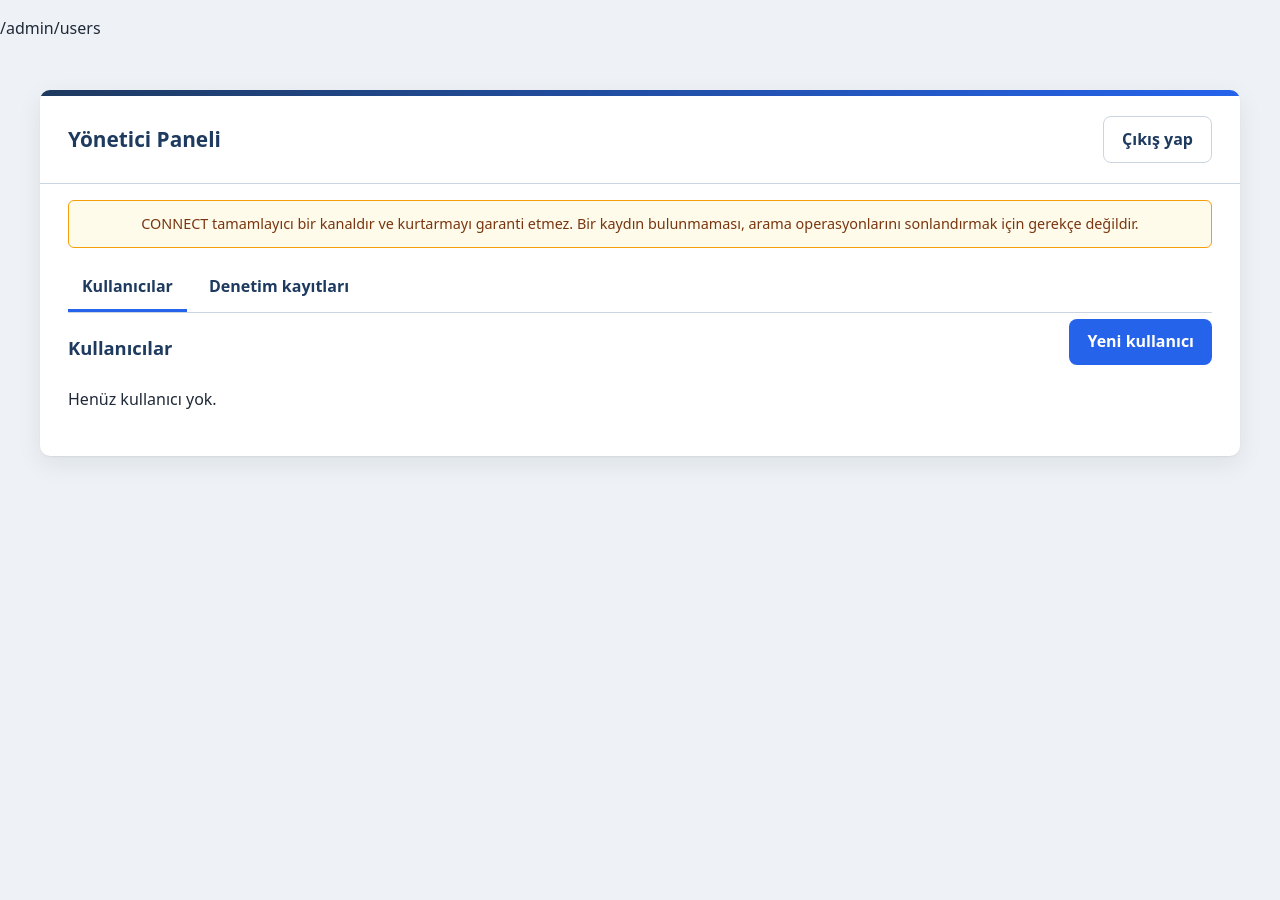
Test case: CreateUserDialog › rejects a 9-character password
This screenshot has width=1280, height=900.
Check: the text "Henüz kullanıcı yok." is shown, box 68,388 -> 217,410
Click the button "Yeni kullanıcı". click: point(1141, 342)
box: 1070,319 -> 1212,365
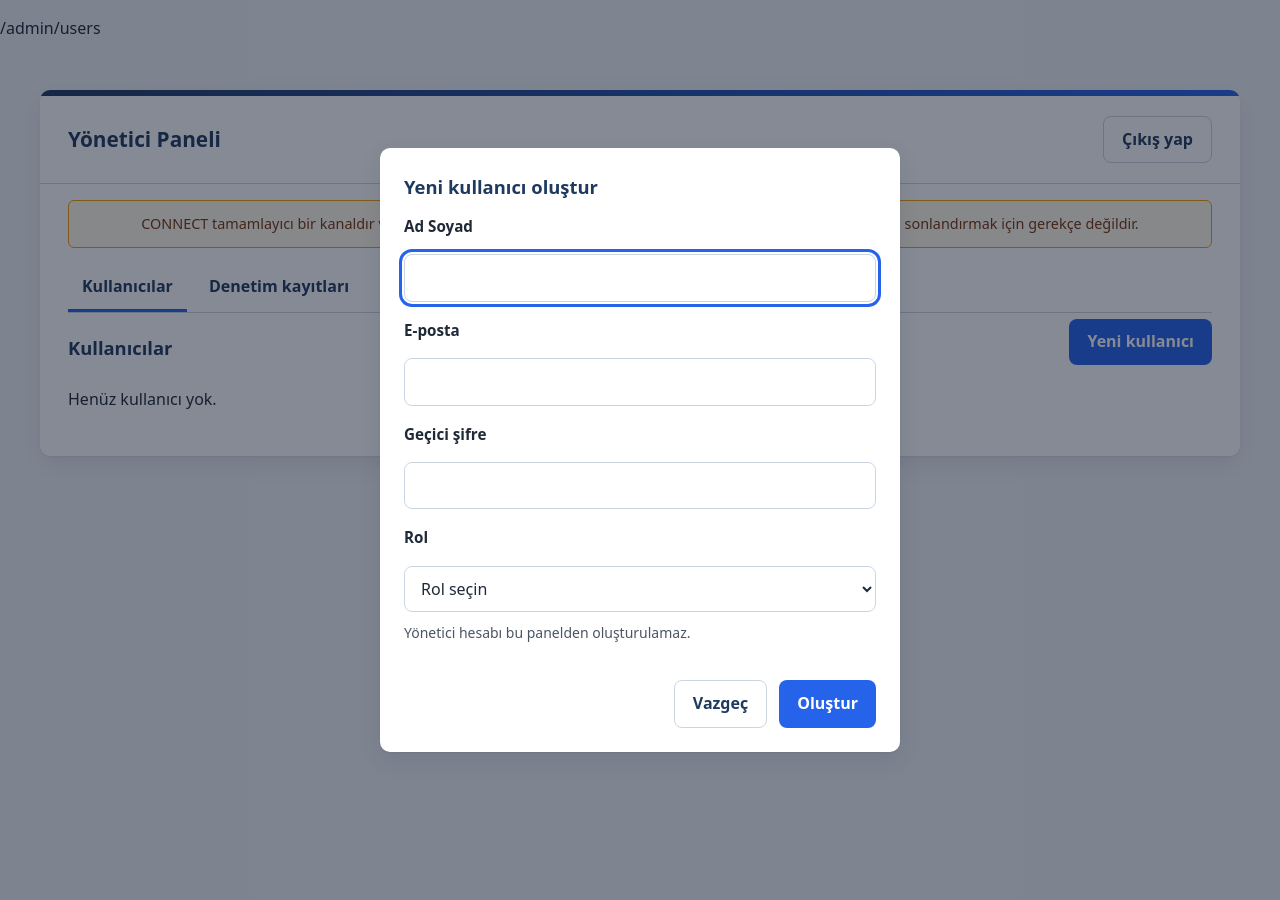
Type "  Mehmet Kaya " into the field labelled "Ad Soyad". click: point(640, 278)
box: 404,254 -> 876,302
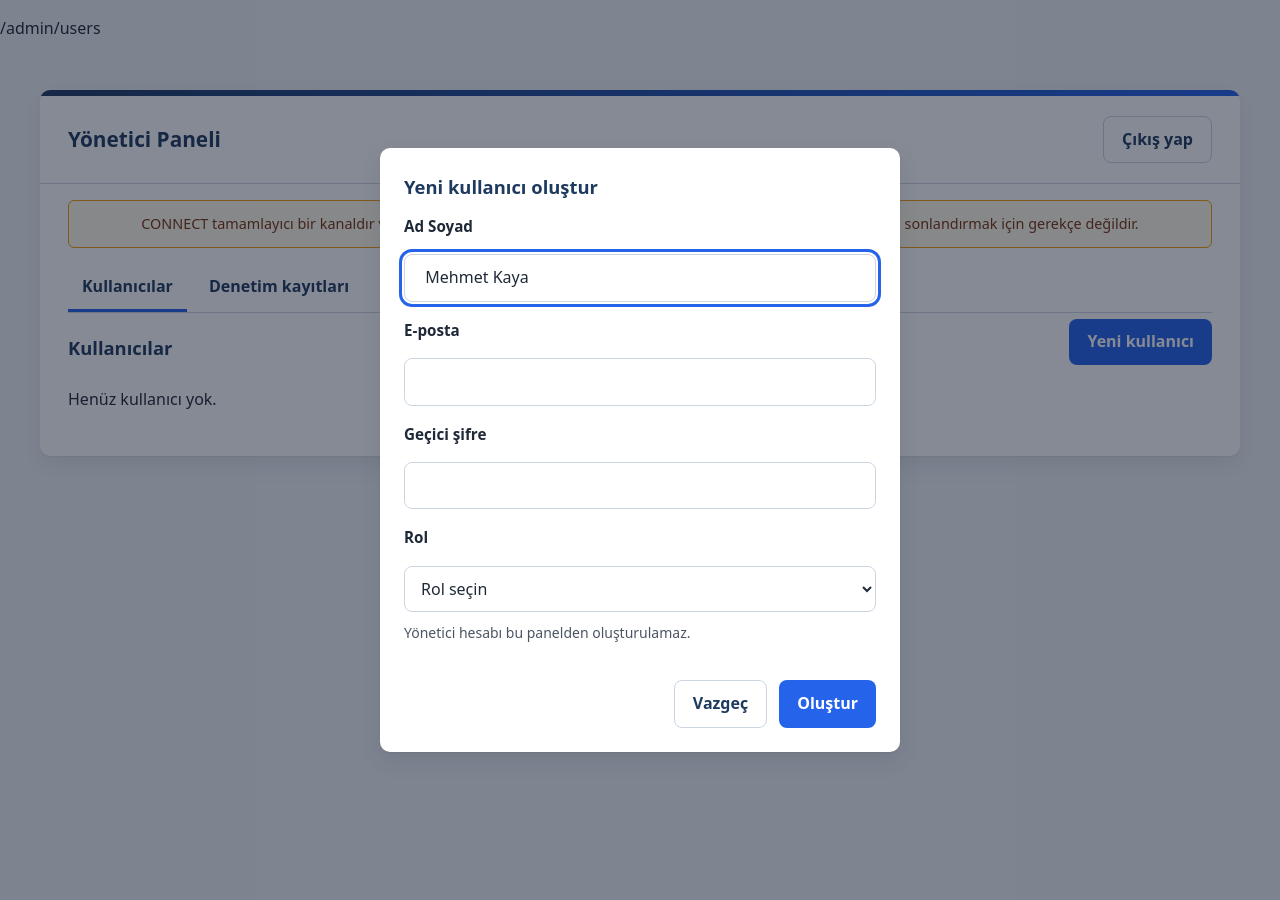
Type " mehmet@example.com " into the field labelled "E-posta". click: point(640, 382)
box: 404,358 -> 876,406
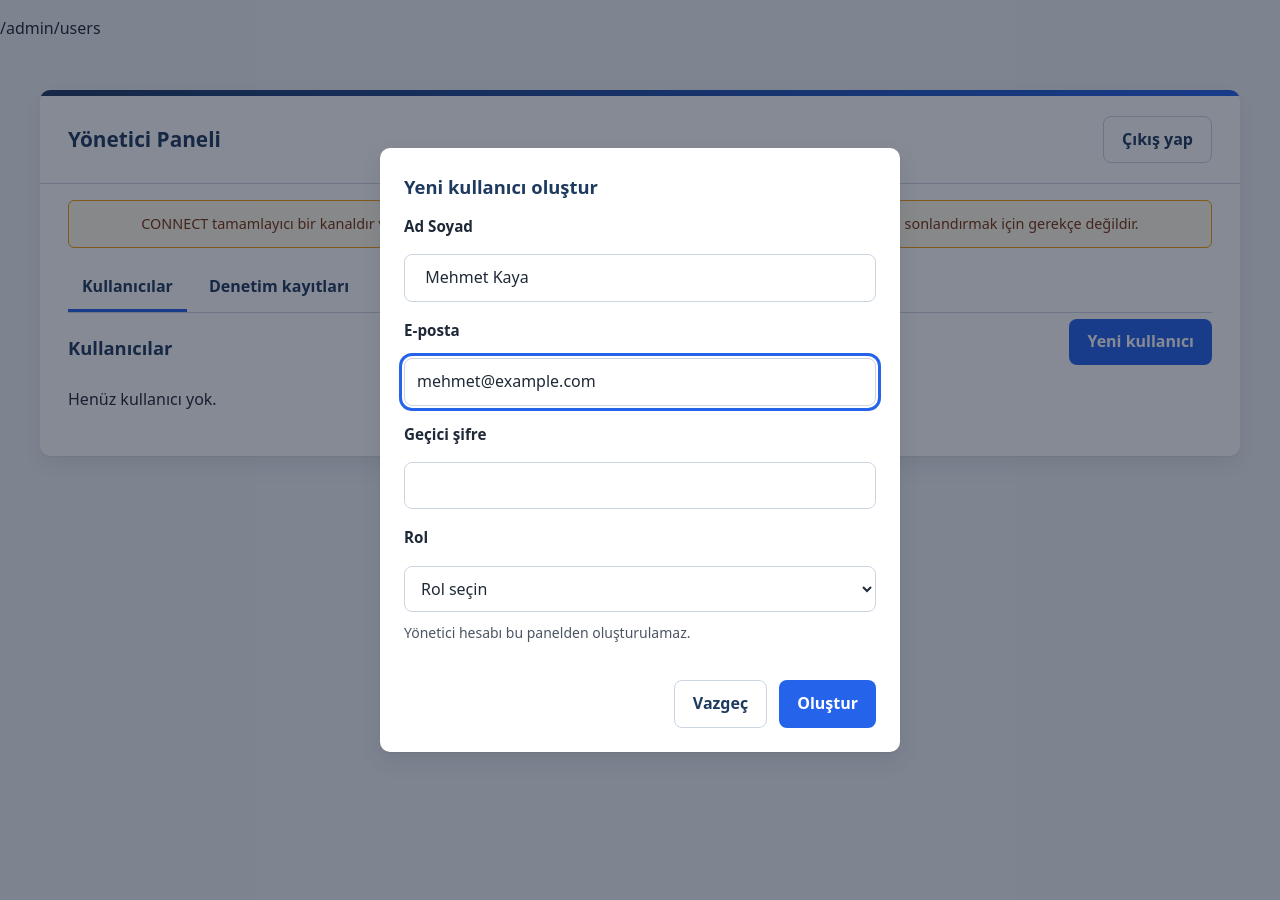
Type "123456789" into the password field labelled "Geçici şifre". click: point(640, 486)
box: 404,462 -> 876,509
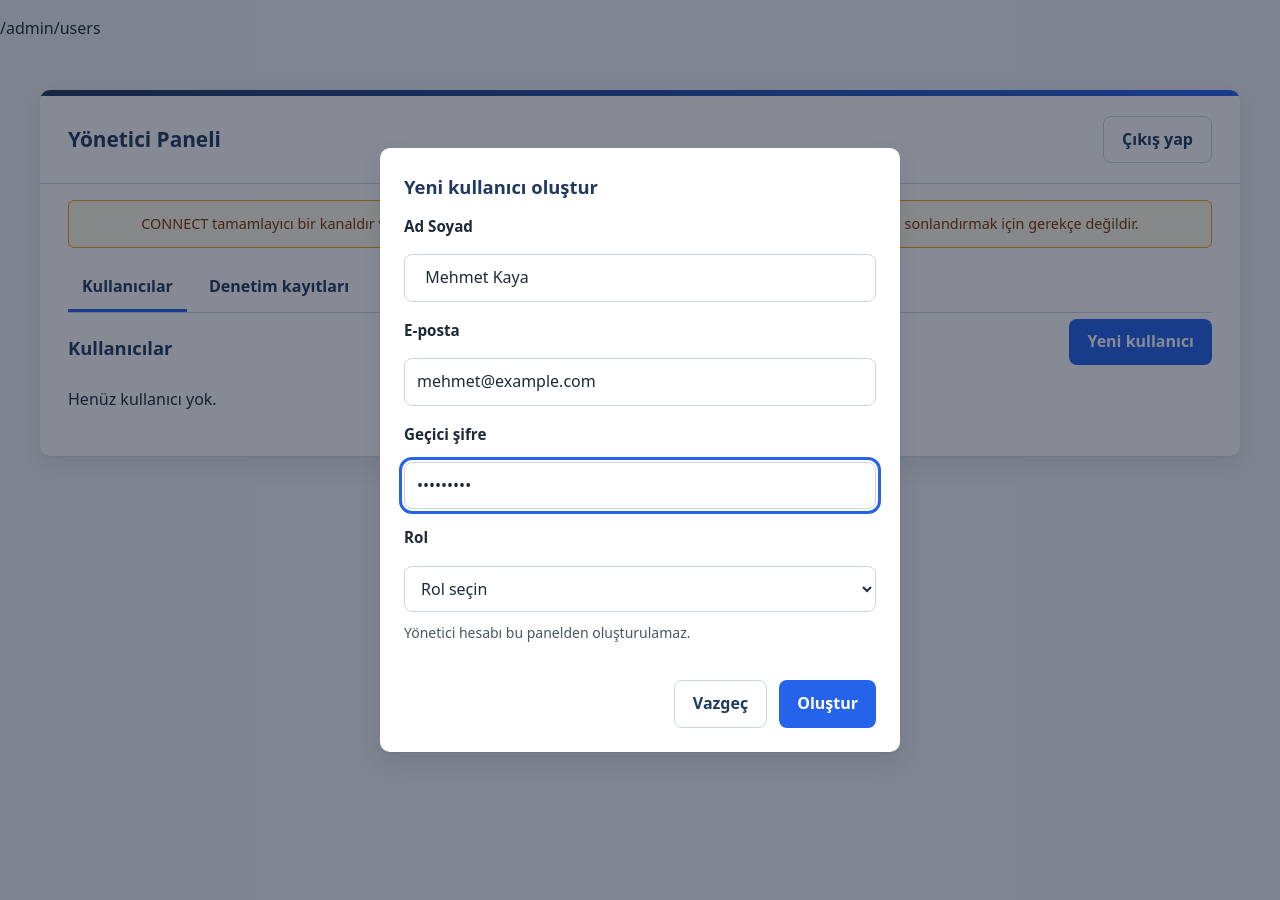
Select "Koordinatör" in the dropdown labelled "Rol". click: point(640, 589)
box: 404,566 -> 876,612
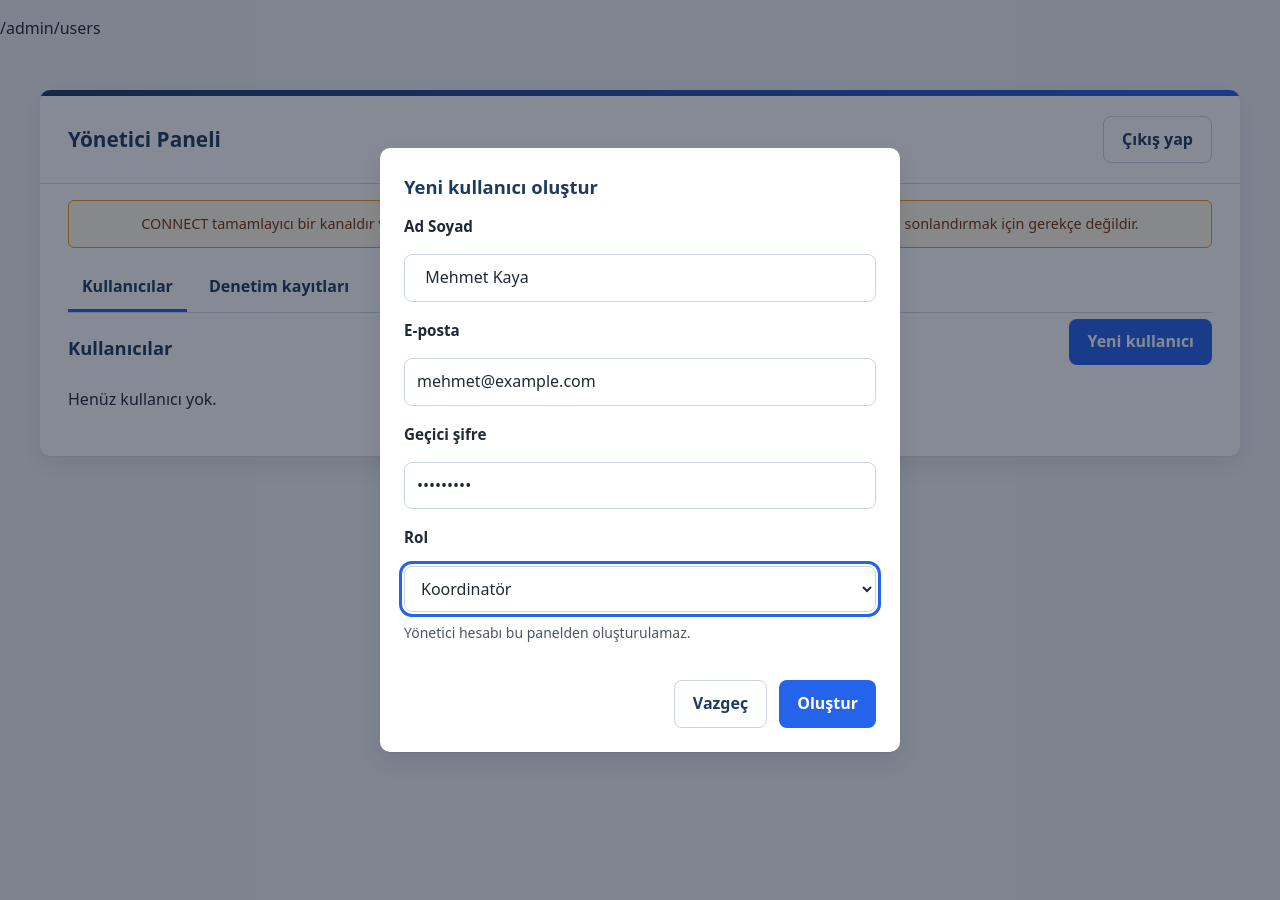
Click the button "Oluştur". click: point(828, 704)
box: 779,680 -> 876,728
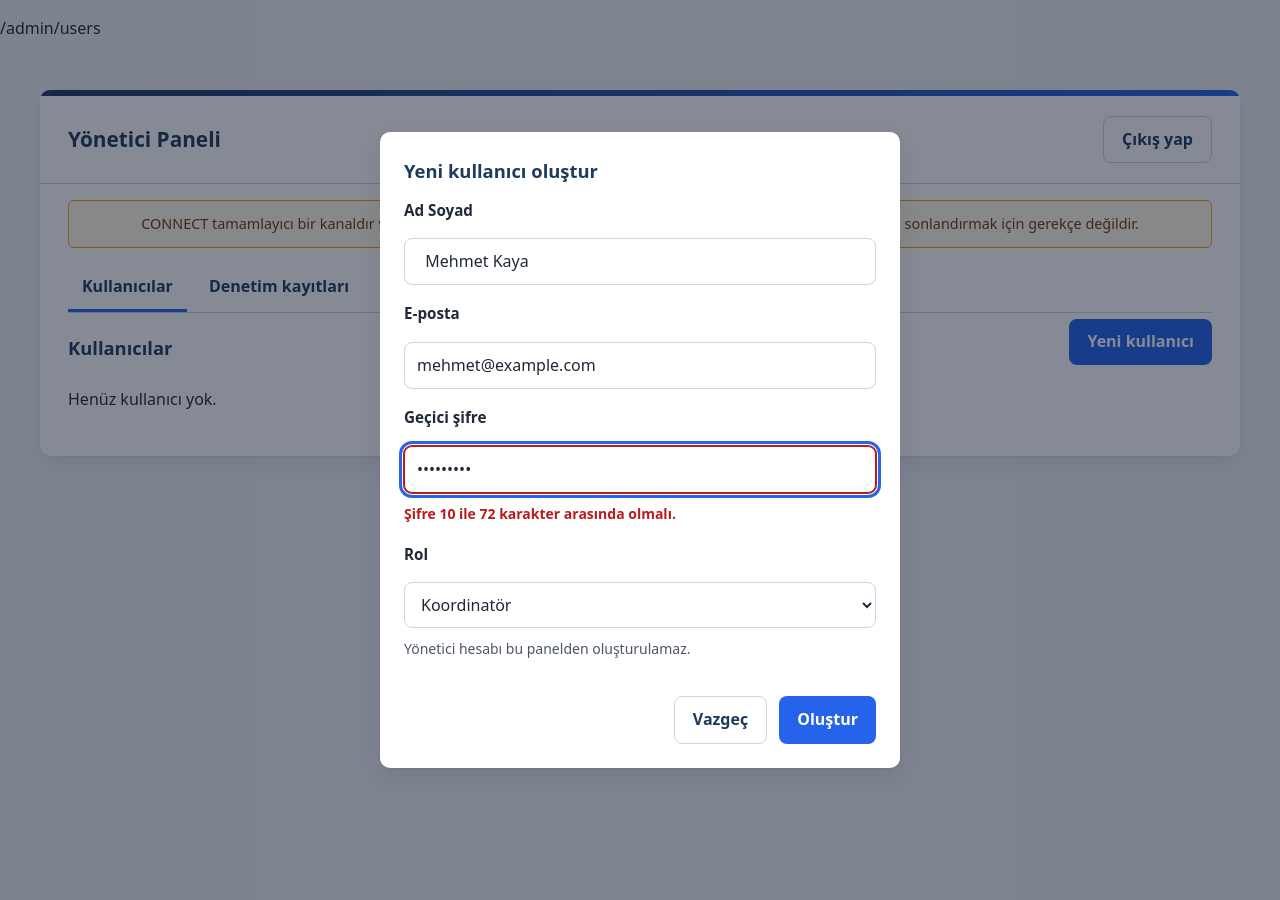
Check: the text "Şifre 10 ile 72 karakter arasında olmalı." is shown, box 404,504 -> 676,523
